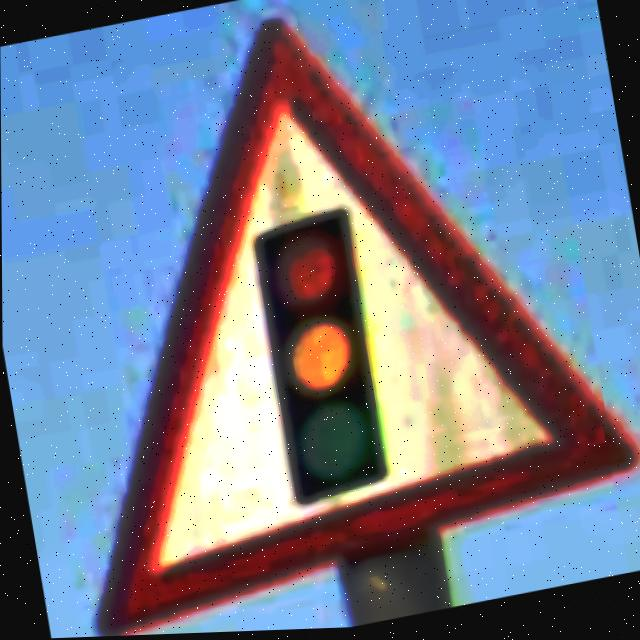signalahead: (99, 24, 635, 637)
